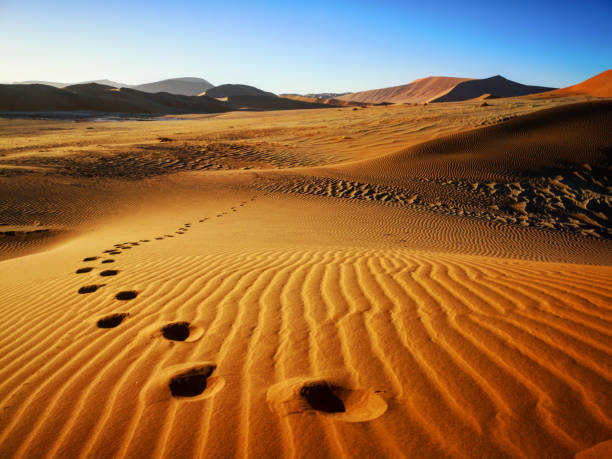human_footprint: (266, 376, 387, 421), (146, 362, 224, 400), (167, 364, 216, 398), (166, 364, 215, 397), (166, 365, 215, 397), (299, 381, 345, 412), (141, 320, 203, 342), (169, 366, 213, 396), (158, 321, 203, 341), (102, 239, 149, 254), (161, 321, 189, 340), (97, 313, 128, 328), (78, 284, 104, 293), (115, 290, 137, 300), (99, 269, 118, 276), (75, 267, 93, 274), (102, 247, 116, 253), (82, 256, 97, 261), (107, 250, 121, 254), (101, 259, 114, 263), (199, 217, 208, 222), (113, 243, 122, 247), (179, 227, 188, 231), (239, 201, 246, 206), (139, 239, 149, 242), (121, 246, 131, 249), (130, 242, 139, 245), (184, 223, 190, 227), (155, 236, 163, 239), (165, 234, 173, 237), (176, 231, 183, 234), (231, 207, 236, 211), (216, 214, 221, 217), (222, 212, 227, 214)
